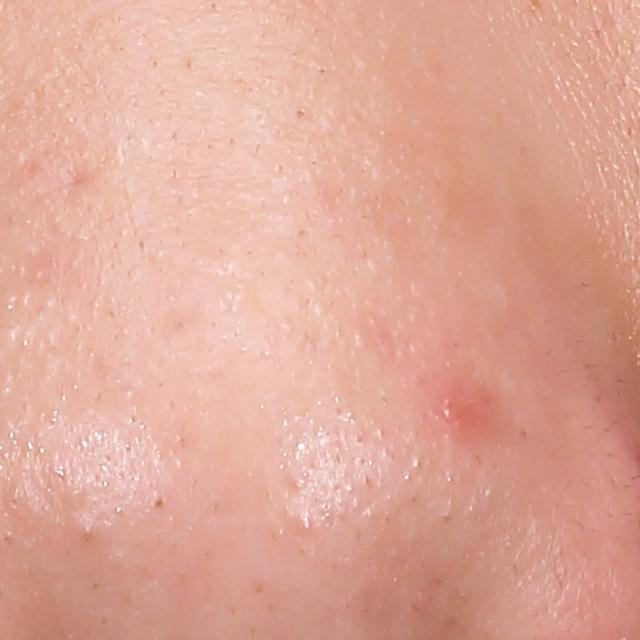comedo: (149, 493, 171, 513)
